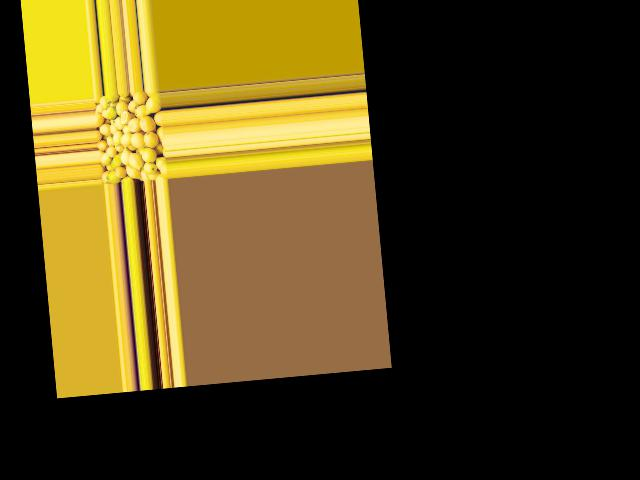lemon: (156, 126, 165, 140)
